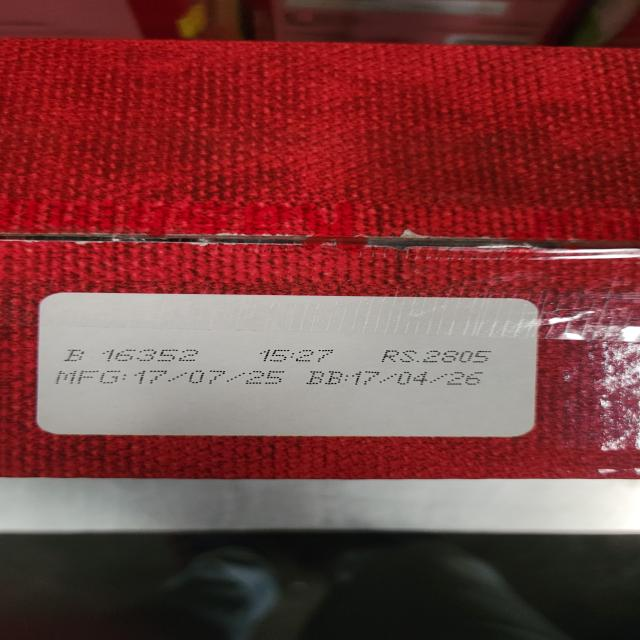BB: (307, 371, 489, 387)
Batch: (62, 349, 202, 362)
MFG: (55, 368, 289, 385)
RS: (380, 349, 494, 364)
TimeStamp: (258, 349, 336, 362)
